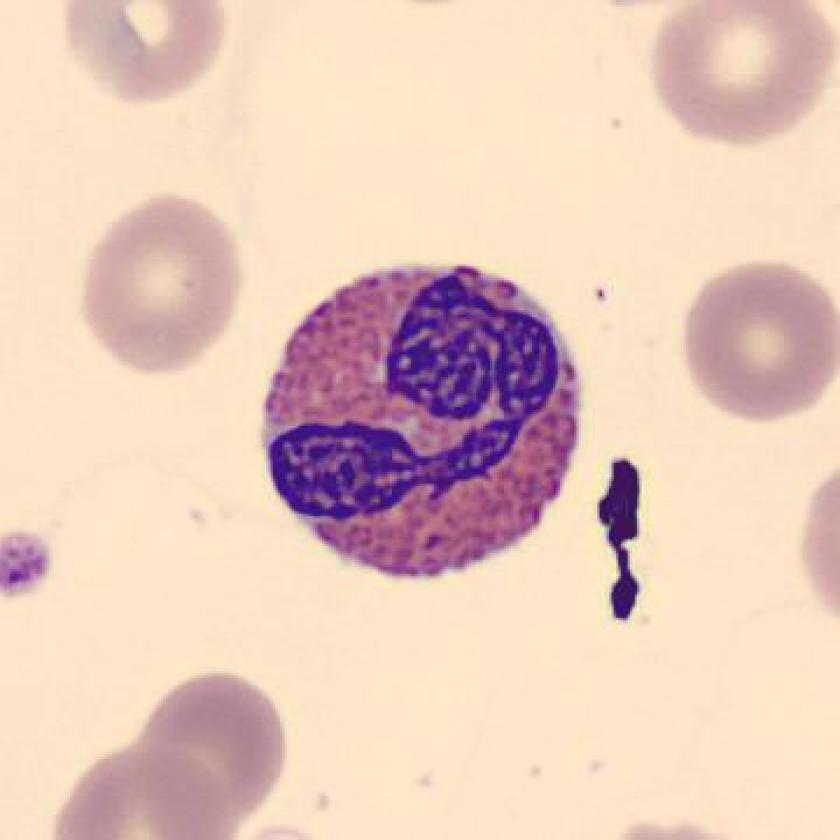eosinophil: (246, 249, 598, 594)
